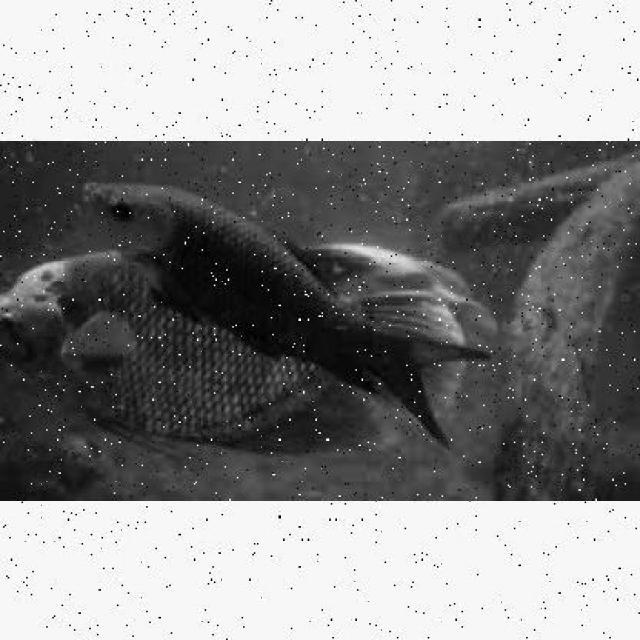gurame: (8, 256, 454, 458)
